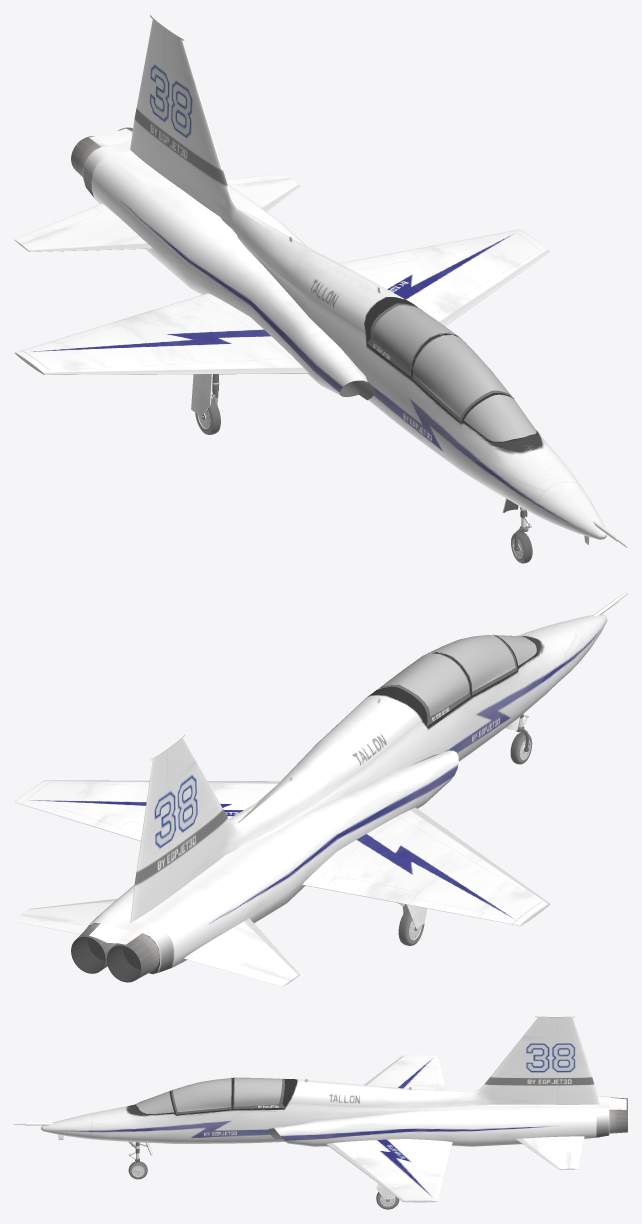
The model's file is Jet.glb.
3 renders of one model, top to bottom at view 1: azimuth 30°, elevation 25°; view 2: azimuth 150°, elevation 25°; view 3: azimuth 270°, elevation 25°, orthographic. The views are drawn at different scales.
Parts seen in each view (by area): view 1: CONTROL, GLASS_2, GLASS_3, GLASS_1, GEAR_R, GEAR_FW; view 2: CONTROL, GLASS_3, GLASS_2, GEAR_R, GEAR_FW, GLASS_1, MARCO_2; view 3: CONTROL, GLASS_2, GLASS_3, GLASS_1, GEAR_FW, GEAR_R, MARCO_2.
Part boxes in pixels (x1=…): CONTROL: x1=14, y1=14, x2=627, y2=547; GLASS_2: x1=413, y1=335, x2=511, y2=417; GLASS_3: x1=373, y1=305, x2=455, y2=371; GLASS_1: x1=464, y1=394, x2=536, y2=441; GEAR_R: x1=191, y1=374, x2=220, y2=434; GEAR_FW: x1=502, y1=498, x2=532, y2=563; CONTROL: x1=14, y1=592, x2=627, y2=986; GLASS_3: x1=380, y1=653, x2=469, y2=716; GLASS_2: x1=429, y1=635, x2=515, y2=690; GEAR_R: x1=397, y1=903, x2=427, y2=945; GEAR_FW: x1=505, y1=714, x2=532, y2=764; GLASS_1: x1=495, y1=635, x2=536, y2=665; MARCO_2: x1=376, y1=653, x2=470, y2=726; CONTROL: x1=14, y1=1015, x2=627, y2=1202; GLASS_2: x1=173, y1=1078, x2=231, y2=1111; GLASS_3: x1=234, y1=1077, x2=282, y2=1106; GLASS_1: x1=137, y1=1091, x2=173, y2=1113; GEAR_FW: x1=128, y1=1141, x2=152, y2=1179; GEAR_R: x1=376, y1=1183, x2=399, y2=1209; MARCO_2: x1=233, y1=1077, x2=284, y2=1108.
Size of the model in its own units: 3.53 by 1.85 by 6.3.
2 materials, 2 textured.
